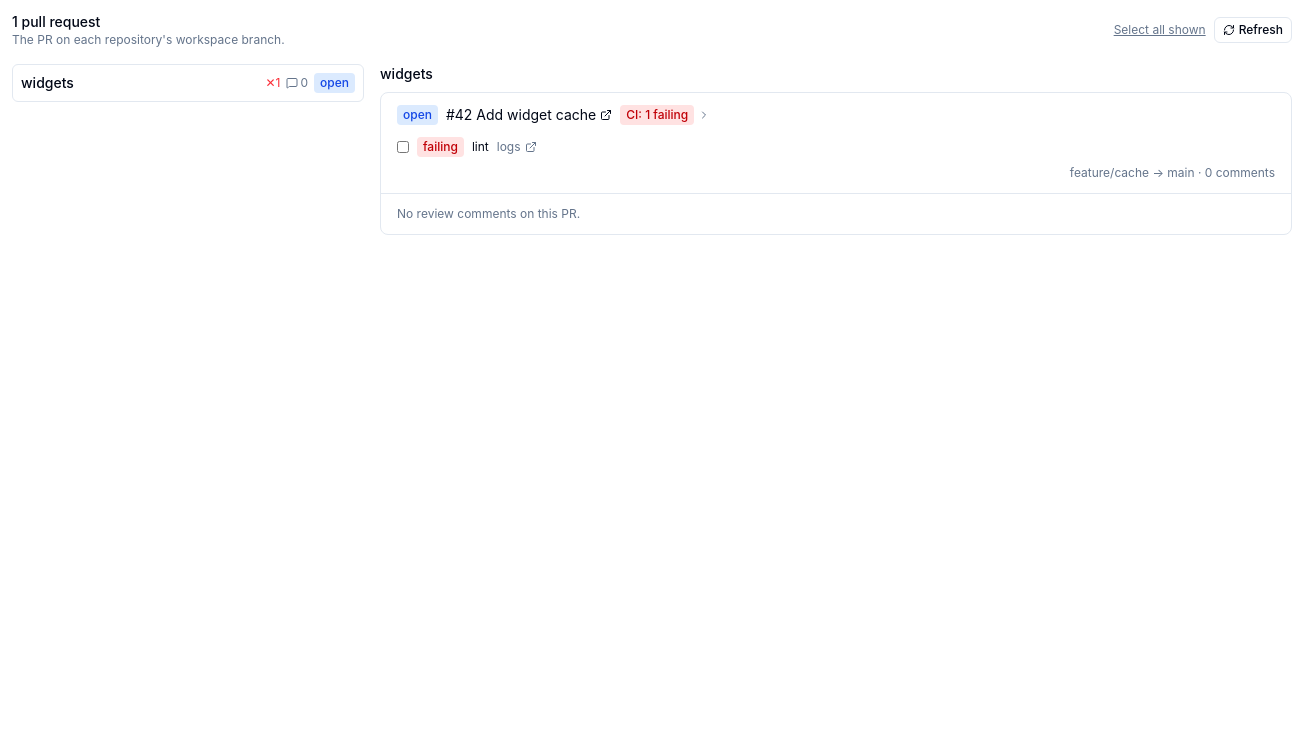
it: PullRequestsView › CI status › keeps Validate to review comments, since a check is not a comment
Click the checkbox named "lint" at (403, 147), box [397,141,409,153]
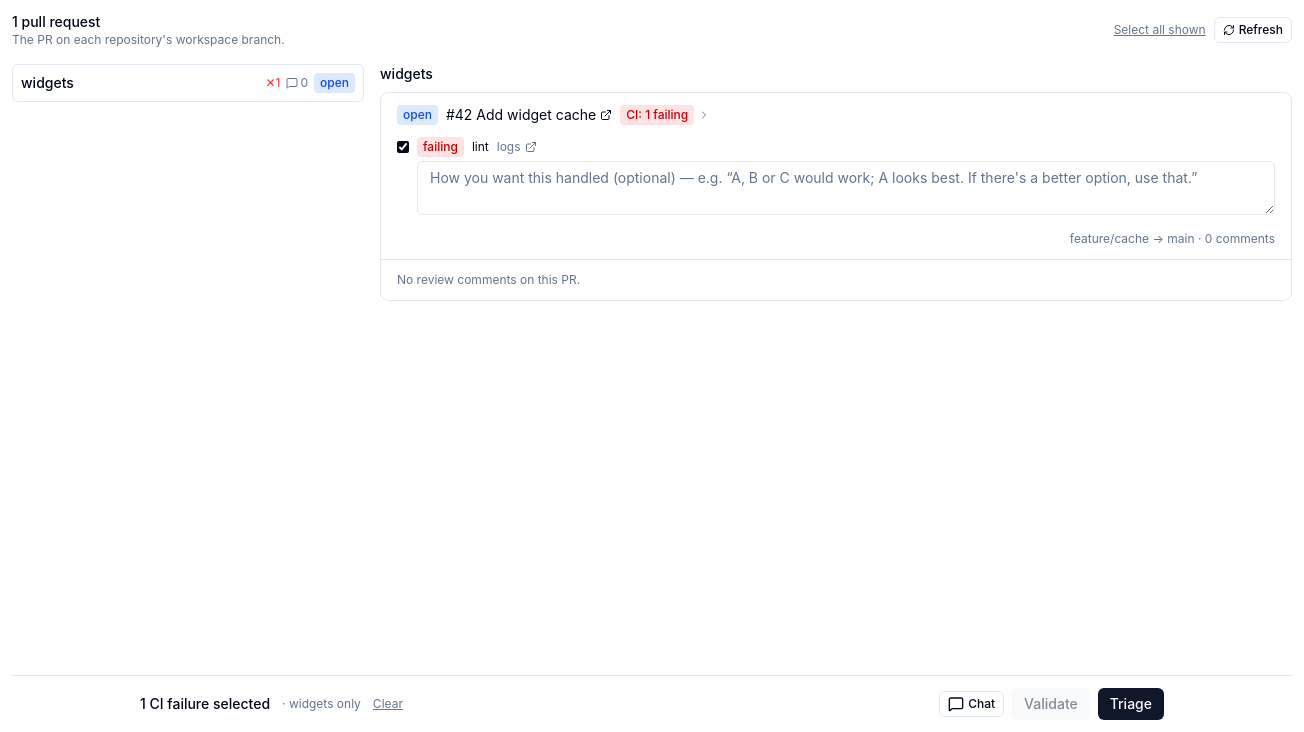
Now the button "Validate" is disabled, box [1012,688,1090,720]
